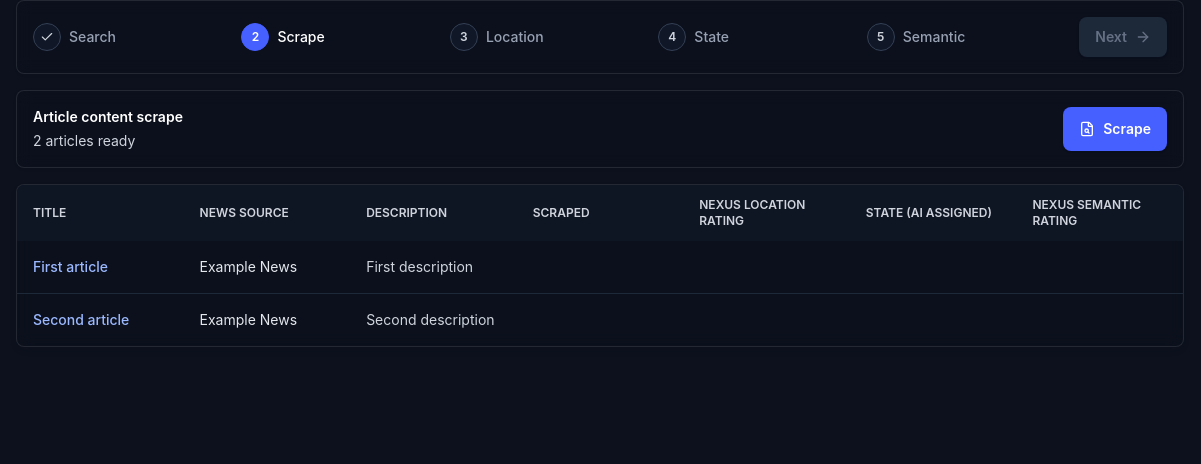
Test: ScrapeBar › shows a worker-specific error when worker-node is unavailable
Click the button "Scrape" at (1115, 129), box [1063,107,1167,151]
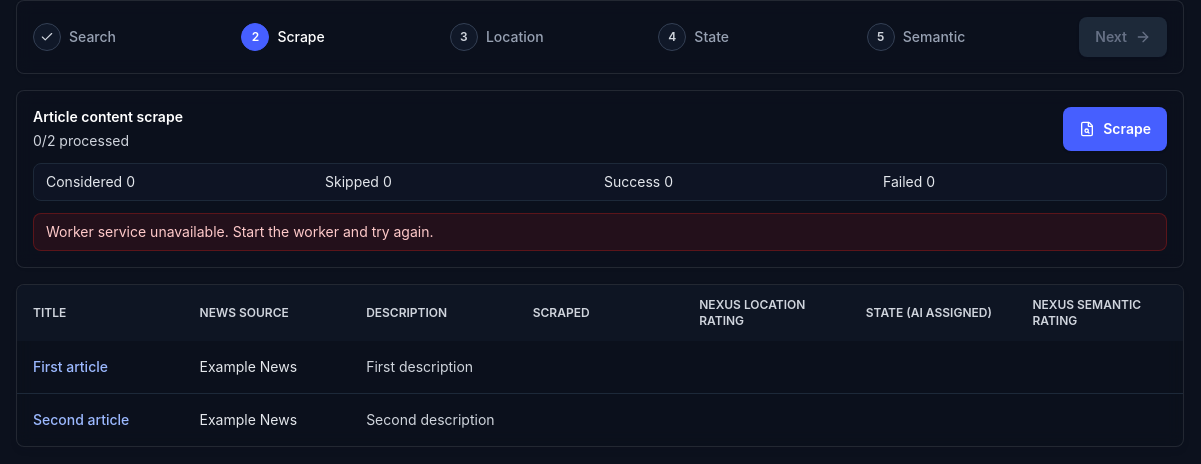
Result: the message "Worker service unavailable. Start the worker and try again." is shown at [33,213,1167,251]
